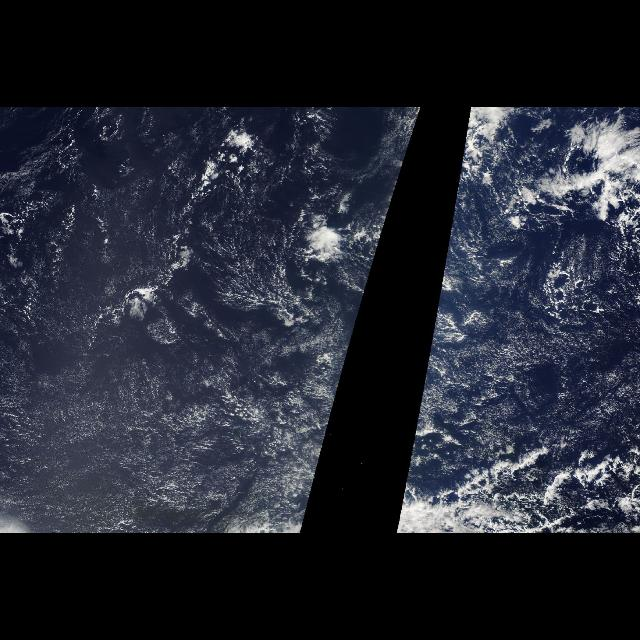Sugar: (0, 169, 378, 533), (412, 230, 640, 482)
